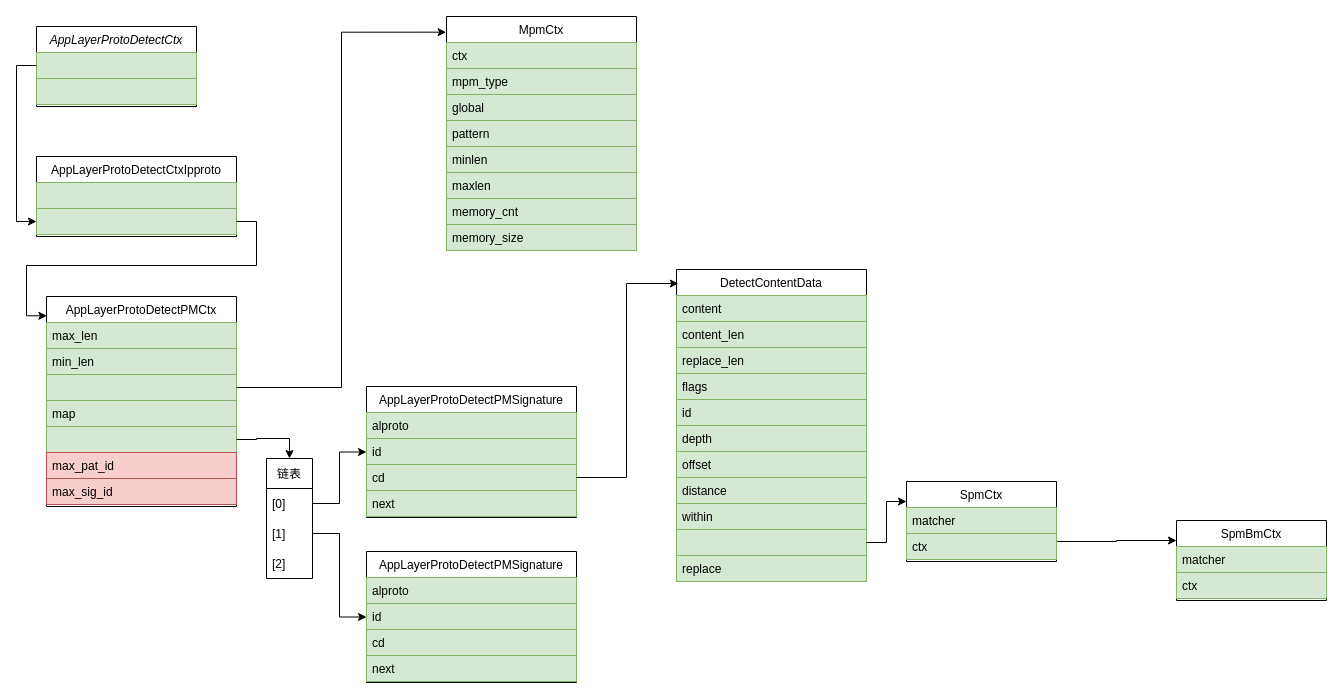
This 1343x699 diagram has some shape labels left out. The centre of each missing label's shape, as x and y in pixels:
"ctx_ipp" belongs at pixel 116 65.
"ctx_pm[0] //toserver" belongs at pixel 136 195.
"ctx_pm[1] //toclient" belongs at pixel 136 221.
"ctx_pp" belongs at pixel 116 91.
"head" belongs at pixel 141 439.
"mpm_ctx" belongs at pixel 141 387.
"spm_ctx" belongs at pixel 771 542.
